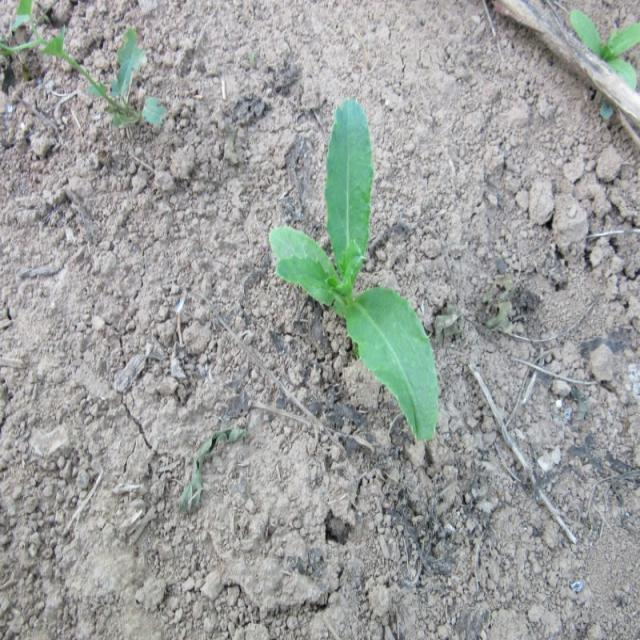cs: (270, 98, 438, 444)
